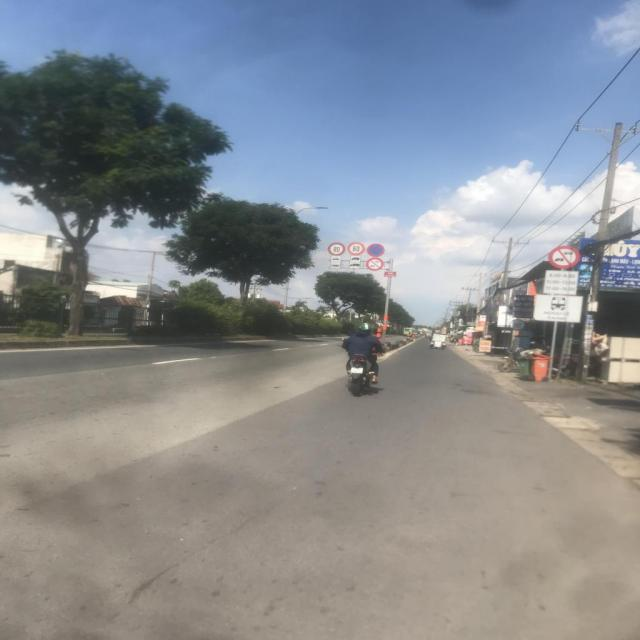cam_dung_xe_va_do_xe: (367, 244, 385, 257)
cam_o_to_tai_va_xe_khach: (548, 246, 580, 268)
cam_xe_2_banh_va_xe_3_banh_co_dong_co: (366, 258, 384, 270)
khac: (533, 294, 583, 322), (544, 270, 578, 294), (350, 262, 360, 270), (350, 256, 361, 262), (331, 256, 341, 262), (330, 262, 340, 268)
toc_do_toi_da_60: (348, 242, 364, 256)
toc_do_toi_da_80: (328, 242, 346, 256)
